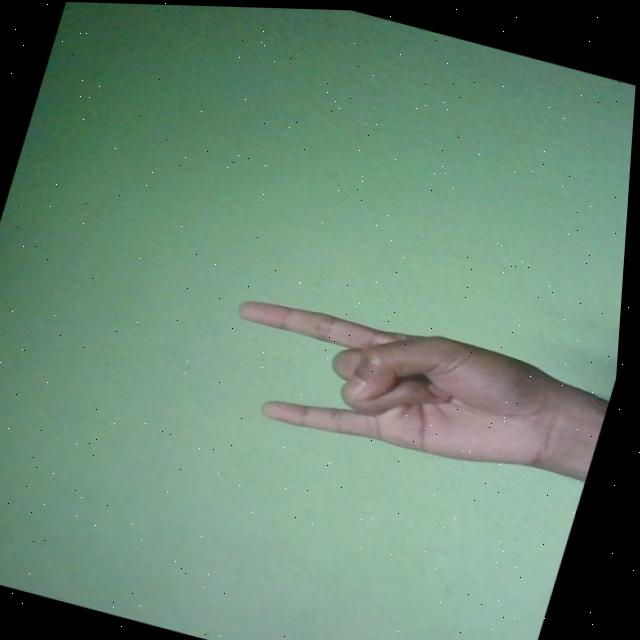Rock On: (210, 279, 589, 489)
